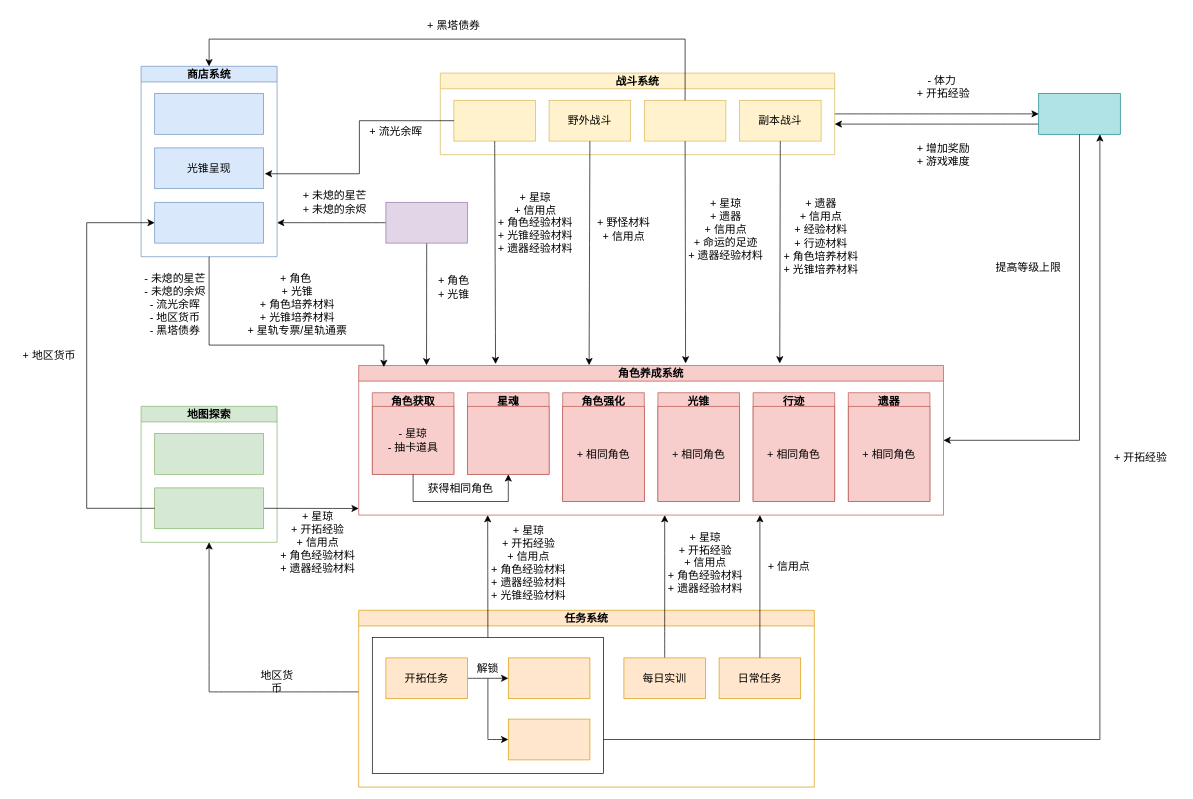
This 1193x799 diagram has some shape labels left out. The centre of each missing label's shape, as x and y in pixels:
"- 相同角色" goes at (508,440).
"冒险任务" goes at (549,739).
"协议商店" goes at (209,113).
"卡池" goes at (426,222).
"地区商城" goes at (209,222).
"宝箱" goes at (209,508).
"开拓等级" goes at (1079,113).
"忘却之庭" goes at (494,120).
"模拟宇宙" goes at (685,120).
"通行任务" goes at (549,678).
"隐藏任务" goes at (209,453).
